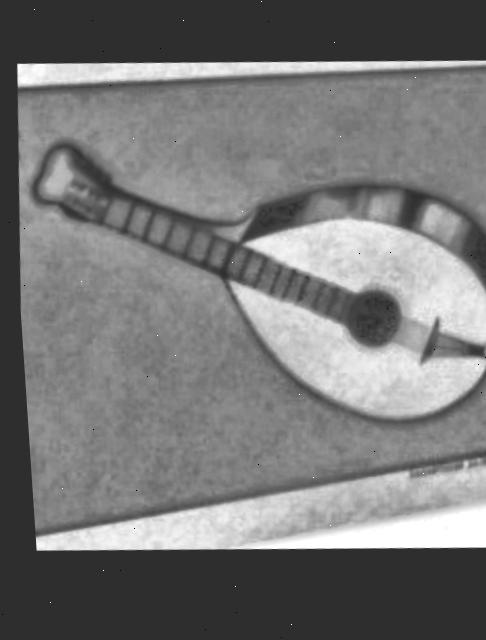El Bandolon: (16, 76, 486, 537)
